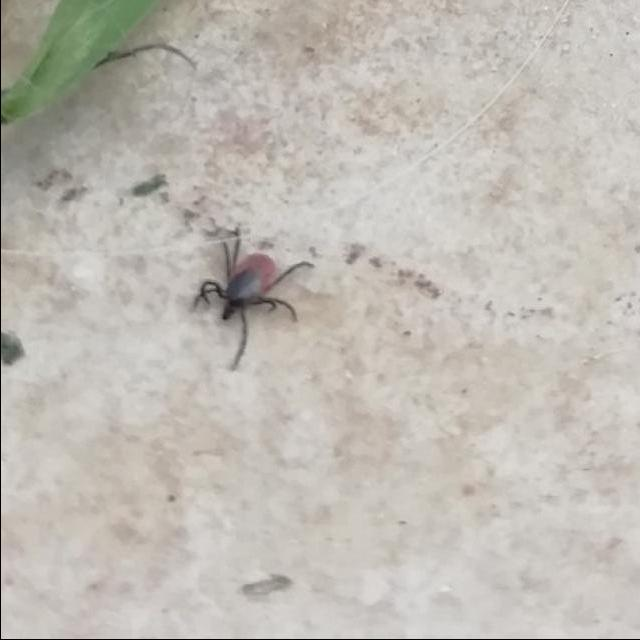Ixodes Ricinus-F: (189, 238, 314, 370)
